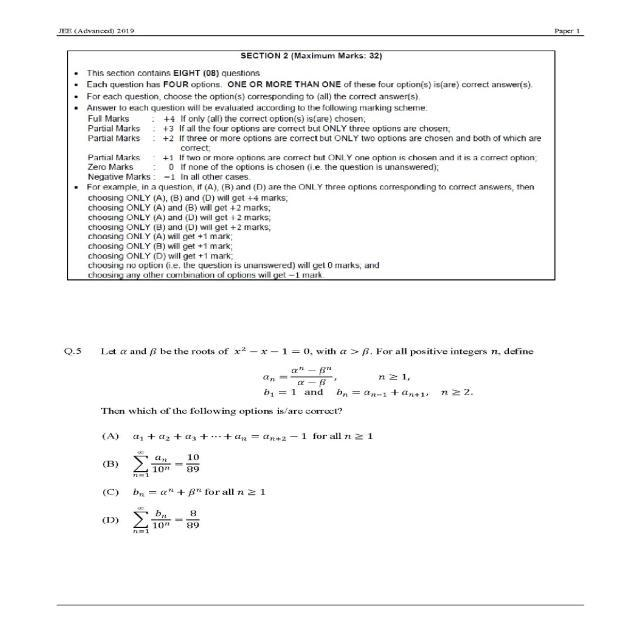Answer_Block: (45, 424, 624, 570)
Instruction: (45, 41, 624, 286)
Question_Answer_Block: (45, 326, 624, 570)
Question_Block: (45, 327, 624, 420)
Question_Paper_Area: (45, 42, 624, 570)
